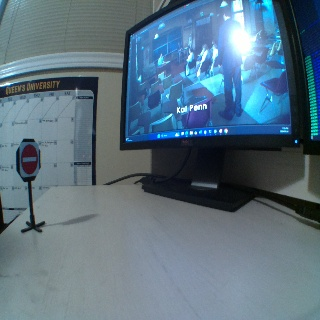sign_noentry: (19, 142, 40, 176)
